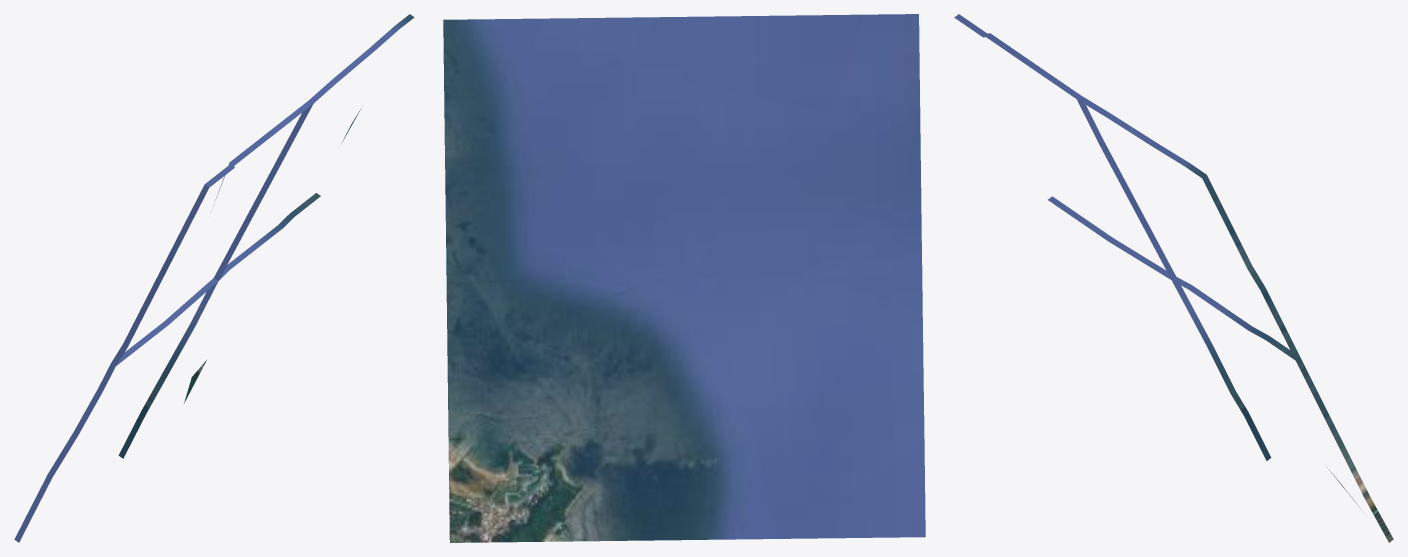
3 renders of one model, left to right at view 1: azimuth 30°, elevation 25°; view 2: azimuth 150°, elevation 25°; view 3: azimuth 270°, elevation 25°, orthographic. The views are drawn at different scales.
Bounding box in the file's own units: 4896 × 4436 × 4236.
Materials: 1 (1 with a texture image).
